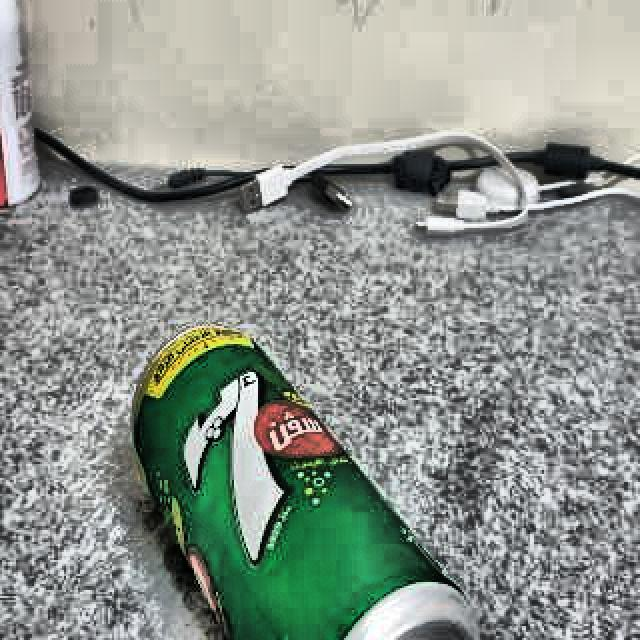metal: (126, 328, 484, 640)
